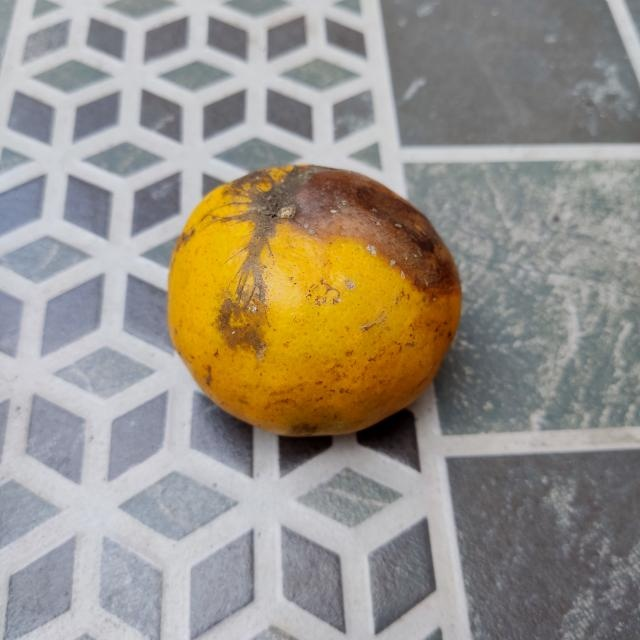agrume: (167, 165, 461, 435)
